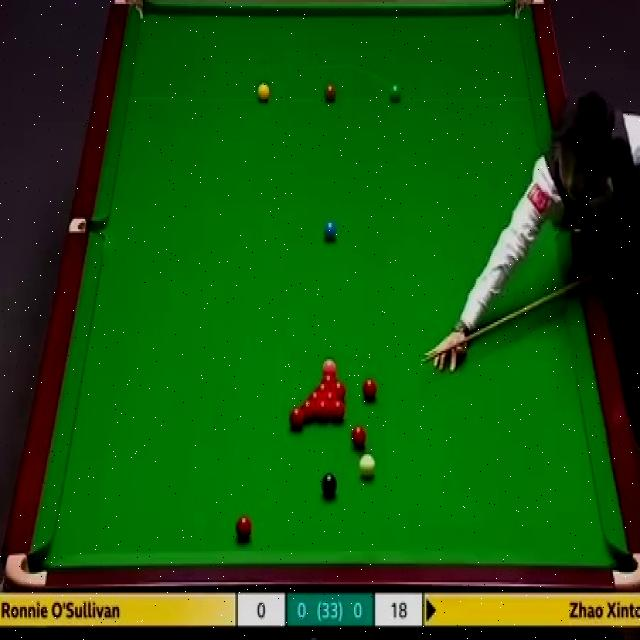black-ball: (320, 472, 338, 498)
blue-ball: (322, 219, 338, 243)
brown-ball: (323, 84, 337, 104)
green-ball: (388, 84, 403, 105)
pink-ball: (324, 362, 339, 373)
red-ball: (360, 378, 378, 405), (288, 409, 307, 433), (329, 399, 346, 424), (238, 516, 253, 541), (351, 425, 366, 448), (316, 399, 329, 422), (336, 382, 350, 402), (301, 402, 314, 423), (308, 392, 323, 410), (323, 372, 335, 390), (314, 384, 327, 400)
white-ball: (360, 454, 376, 476)
yellow-ball: (256, 82, 270, 103)
